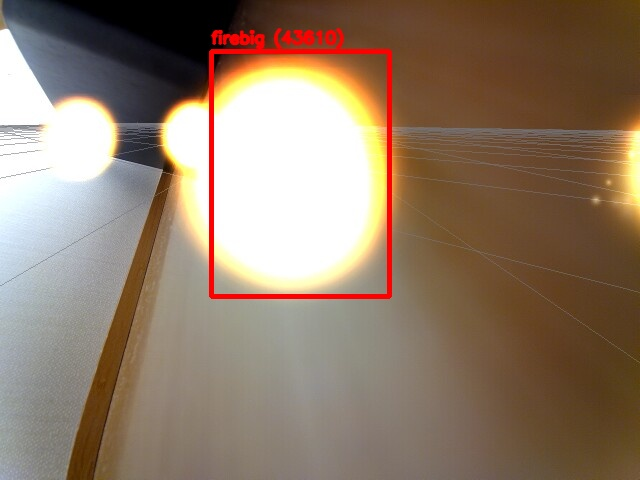firebig: (211, 51, 389, 296)
